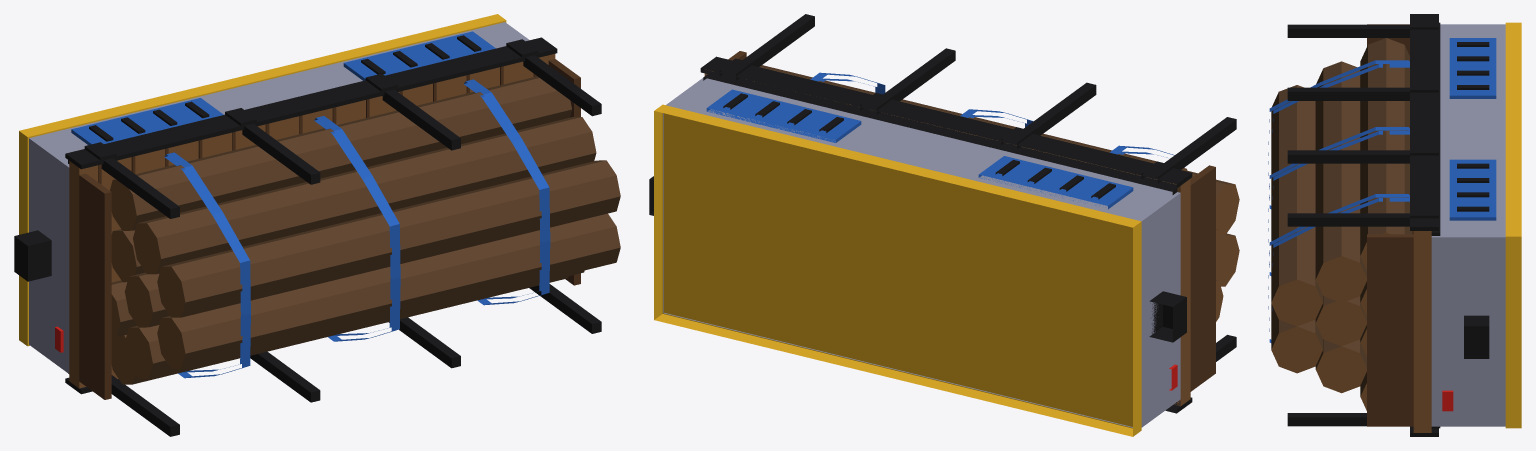
The model's file is loaded.glb.
3 renders of one model, left to right at view 1: azimuth 30°, elevation 25°; view 2: azimuth 150°, elevation 25°; view 3: azimuth 270°, elevation 25°, orthographic. The views are drawn at different scales.
Visible parts, largest first — view 1: loaded_log20.36, loaded_log2-0.36, loaded_log10.72, loaded_log01.08, loaded_base, loaded_deck, loaded_side1_-3.50_1.90, loaded_bulkhead-1, loaded_stripe, loaded_binder-2.2, loaded_binder0.0, loaded_binder2.2 (+17 smaller); view 2: loaded_stripe, loaded_base, loaded_side1_-3.50_1.90, loaded_bulkhead-1, loaded_pod11, loaded_pod10, loaded_deck, loaded_base_lip, loaded_coupler-1, loaded_stake11, loaded_stake12, loaded_stake10 (+4 smaller); view 3: loaded_base, loaded_bulkhead1, loaded_log20.36, loaded_log10.72, loaded_log01.08, loaded_stripe, loaded_side1_-3.50_1.90, loaded_deck, loaded_pod11, loaded_pod10, loaded_log2-0.36, loaded_log1-0.72 (+17 smaller).
Part boxes in pixels (<box>): loaded_log20.36: <box>157,160,620,317</box>; loaded_log2-0.36: <box>157,213,620,368</box>; loaded_log10.72: <box>133,117,596,274</box>; loaded_log01.08: <box>110,76,571,230</box>; loaded_base: <box>29,22,529,373</box>; loaded_deck: <box>69,54,555,388</box>; loaded_side1_-3.50_1.90: <box>65,37,557,169</box>; loaded_bulkhead-1: <box>79,173,111,399</box>; loaded_stripe: <box>19,14,506,346</box>; loaded_binder-2.2: <box>164,152,250,378</box>; loaded_binder0.0: <box>314,116,400,341</box>; loaded_binder2.2: <box>464,79,550,305</box>; loaded_stripe: <box>654,104,1141,436</box>; loaded_base: <box>663,78,1180,427</box>; loaded_side1_-3.50_1.90: <box>700,56,1192,188</box>; loaded_bulkhead-1: <box>1190,165,1215,391</box>; loaded_pod11: <box>706,89,861,142</box>; loaded_pod10: <box>978,156,1133,209</box>; loaded_deck: <box>704,69,1190,406</box>; loaded_base_lip: <box>703,74,1177,403</box>; loaded_coupler-1: <box>1149,291,1186,342</box>; loaded_stake11: <box>1024,82,1096,135</box>; loaded_stake12: <box>883,48,955,101</box>; loaded_stake10: <box>1164,117,1236,169</box>; loaded_base: <box>1431,24,1505,426</box>; loaded_bulkhead1: <box>1367,234,1413,426</box>; loaded_log20.36: <box>1271,85,1322,326</box>; loaded_log10.72: <box>1315,61,1366,302</box>; loaded_log01.08: <box>1360,38,1412,269</box>; loaded_stripe: <box>1505,22,1521,428</box>; loaded_side1_-3.50_1.90: <box>1410,14,1438,230</box>; loaded_deck: <box>1413,231,1431,432</box>; loaded_pod11: <box>1449,159,1496,220</box>; loaded_pod10: <box>1449,38,1496,98</box>; loaded_log2-0.36: <box>1271,304,1322,373</box>; loaded_log1-0.72: <box>1315,339,1366,393</box>.
Bounding box in the file's own units: 7.7 × 3.3 × 3.52.
